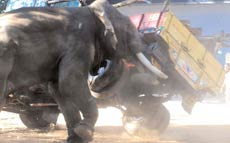elephant: (1, 2, 160, 139)
